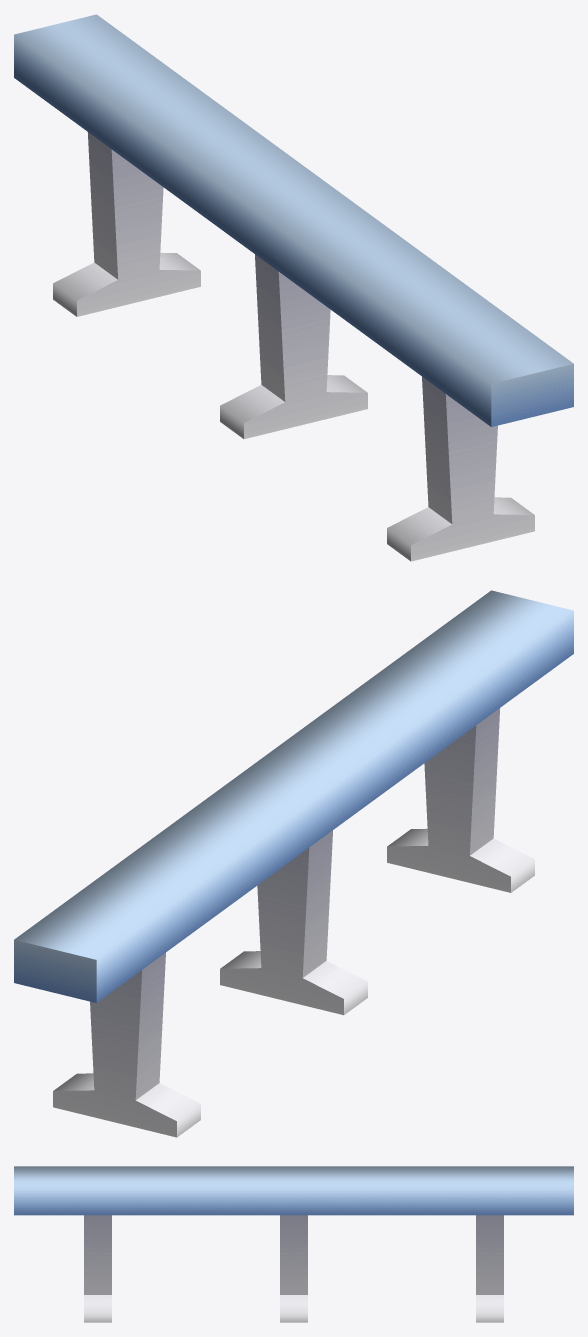
The model's file is rail-low.glb.
3 renders of one model, top to bottom at view 1: azimuth 30°, elevation 25°; view 2: azimuth 150°, elevation 25°; view 3: azimuth 270°, elevation 25°, orthographic. The views are drawn at different scales.
Parts seen in each view (by area): view 1: rail-low; view 2: rail-low; view 3: rail-low.
Part boxes in pixels (bbox=[...]): rail-low: bbox=[14, 14, 573, 561]; rail-low: bbox=[14, 590, 573, 1137]; rail-low: bbox=[14, 1166, 573, 1322].
Bounding box in the file's own units: 0.15 × 0.25 × 1.
